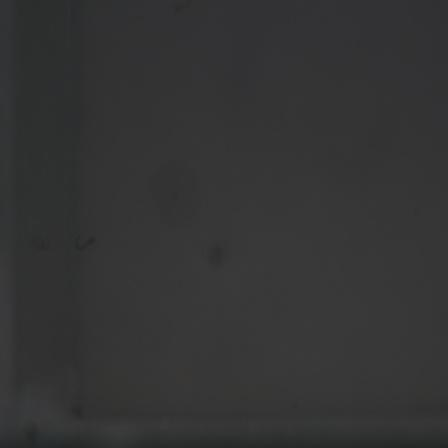Jentik-Nyamuk: (71, 228, 101, 255)
